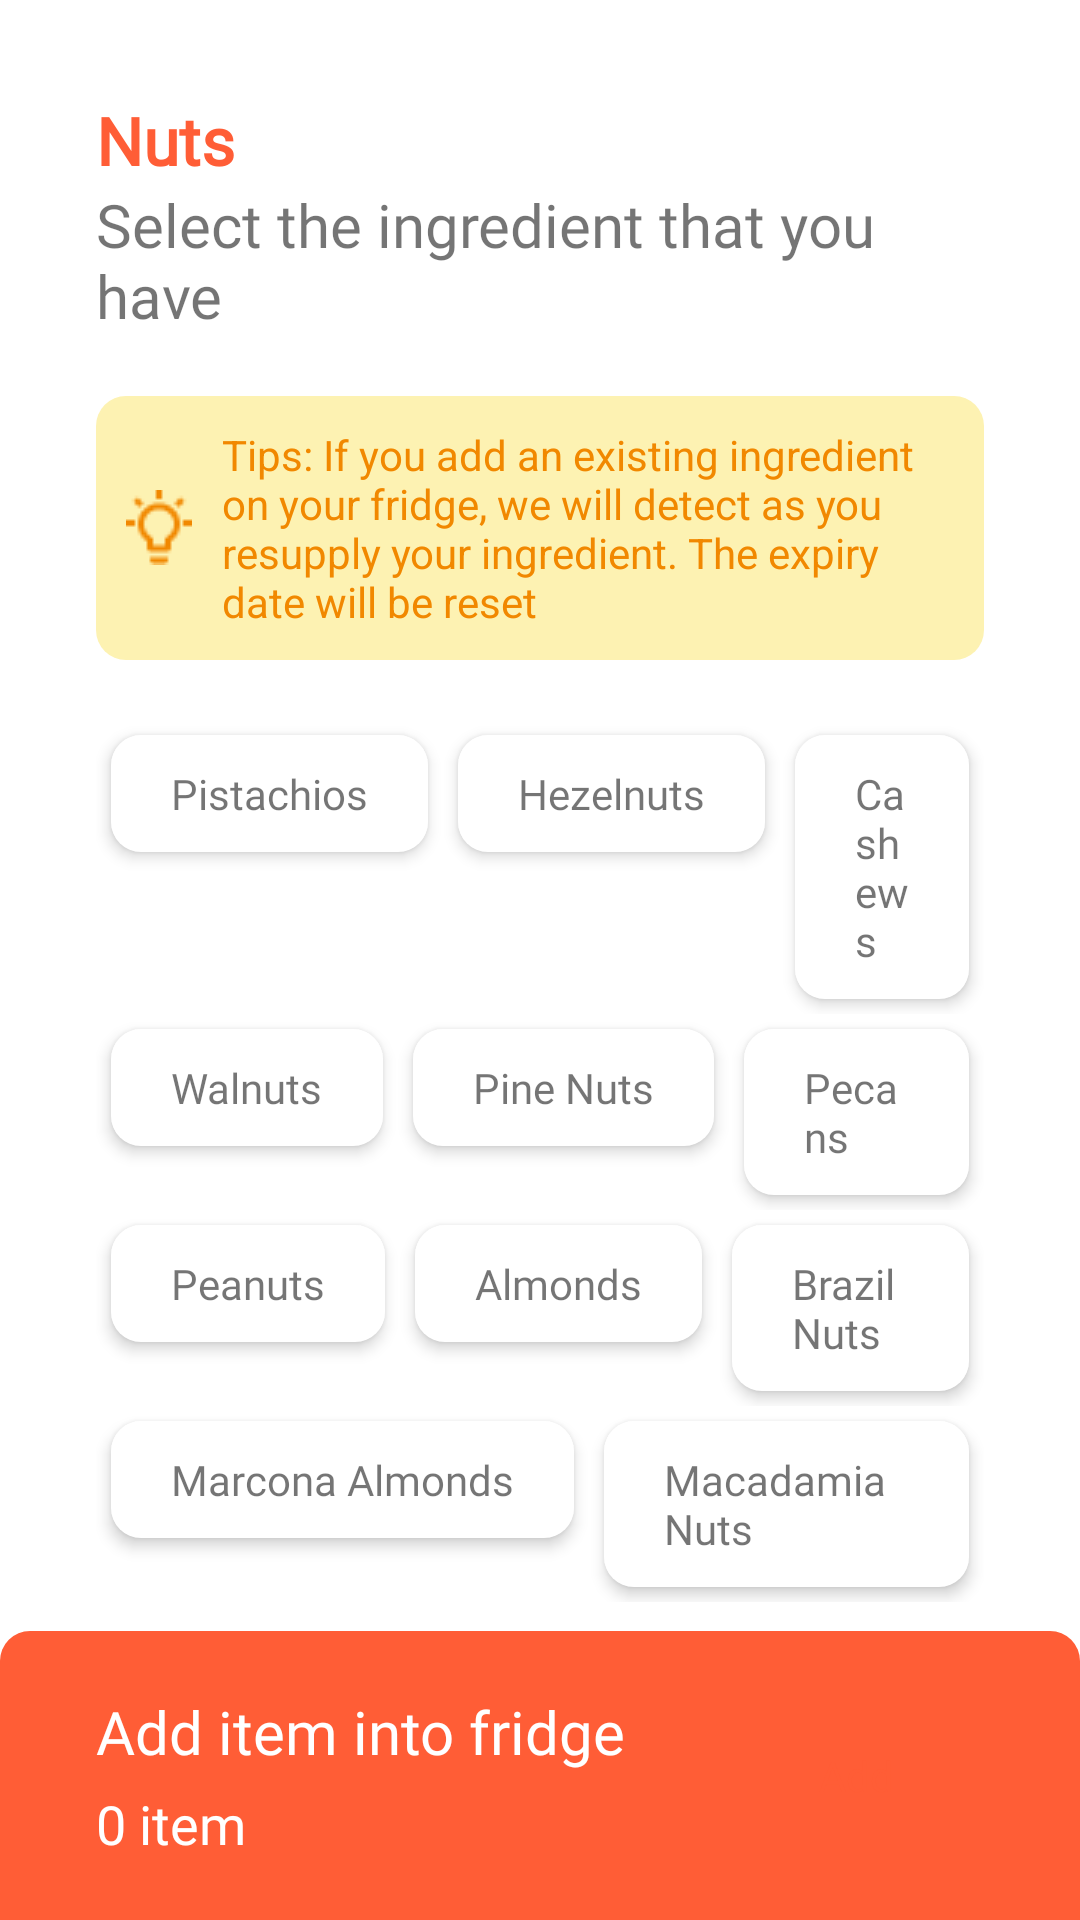

Named icons in this screenshot (1080 × 1920) and their centers, [x,y]:
bulb: [159,527]
